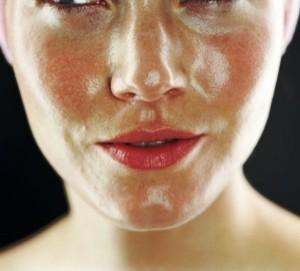Oily-Skin: (157, 5, 189, 92), (110, 0, 139, 95), (194, 37, 230, 105), (175, 2, 243, 37), (141, 180, 173, 212), (191, 116, 227, 135), (85, 77, 104, 96), (144, 70, 161, 88)
